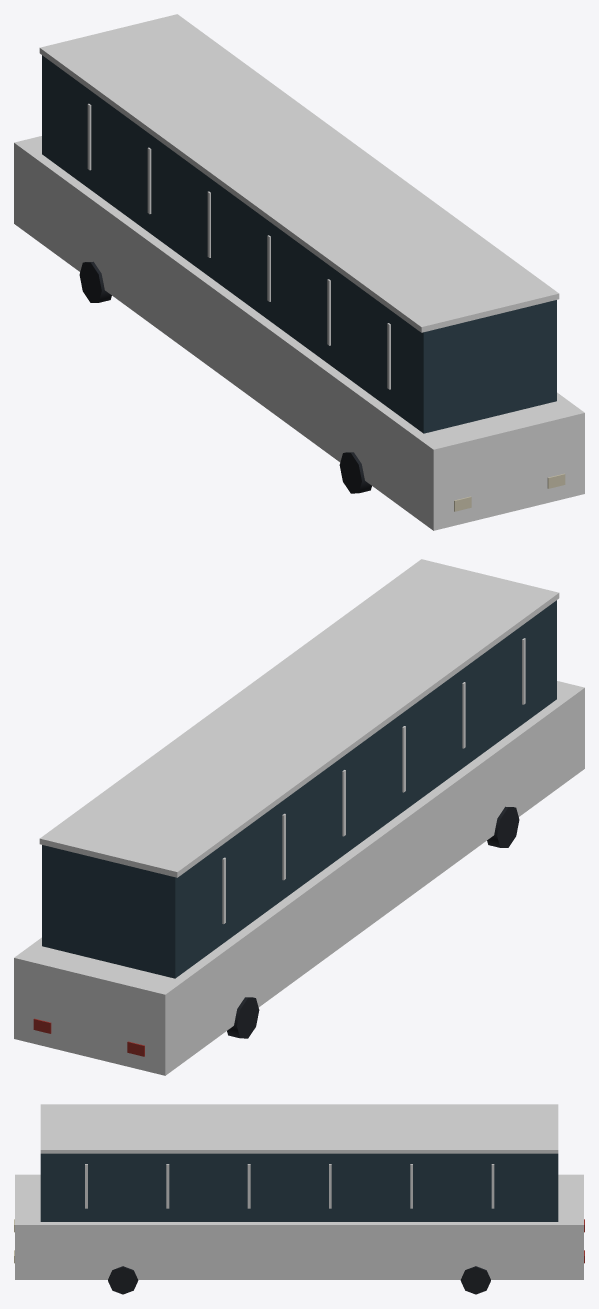
File: veh_bus_1.799e411006b3.glb
3 renders of one model, top to bottom at view 1: azimuth 30°, elevation 25°; view 2: azimuth 150°, elevation 25°; view 3: azimuth 270°, elevation 25°, orthographic. The views are drawn at different scales.
Parts seen in each view (by area): view 1: LOD0; view 2: LOD0; view 3: LOD0.
Part boxes in pixels (box(x1,y1,x2,y2)): LOD0: box(14, 14, 584, 530); LOD0: box(14, 559, 584, 1075); LOD0: box(14, 1104, 584, 1294).
Size of what is drawn, in the model's own units: 2.6 by 3.29 by 12.04.
